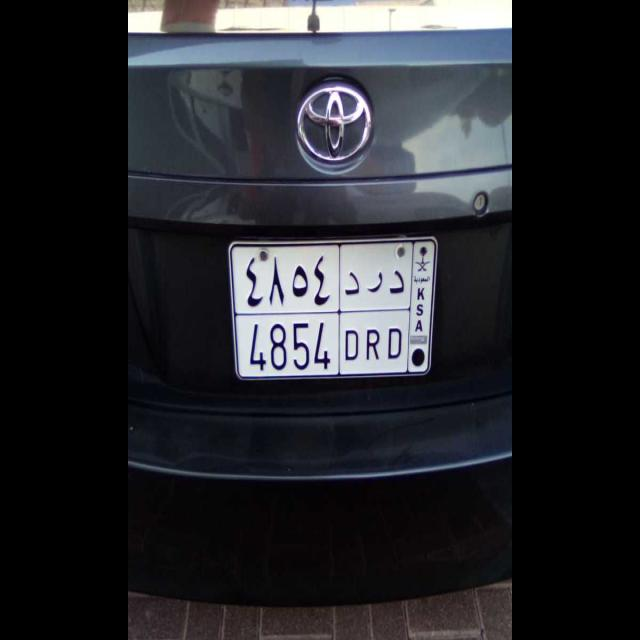license_plate: (234, 310, 412, 381)
